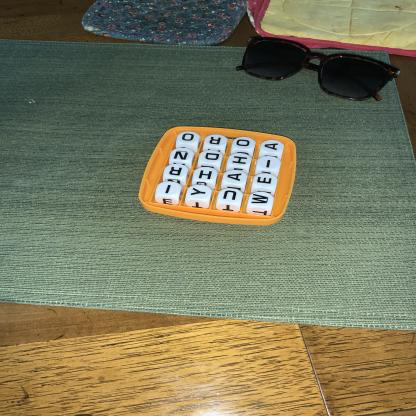a: (226, 170, 246, 185), (263, 140, 283, 155)
d: (203, 151, 222, 164)
e: (254, 174, 277, 189)
h: (231, 153, 251, 168), (196, 168, 217, 182)
i: (159, 182, 180, 199), (259, 156, 280, 172)
n: (173, 148, 193, 163)
o: (180, 132, 198, 145), (236, 138, 253, 150)
r: (167, 164, 188, 180), (206, 135, 225, 149)
u: (221, 189, 242, 204)
w: (249, 192, 274, 208)
y: (189, 186, 209, 200)
